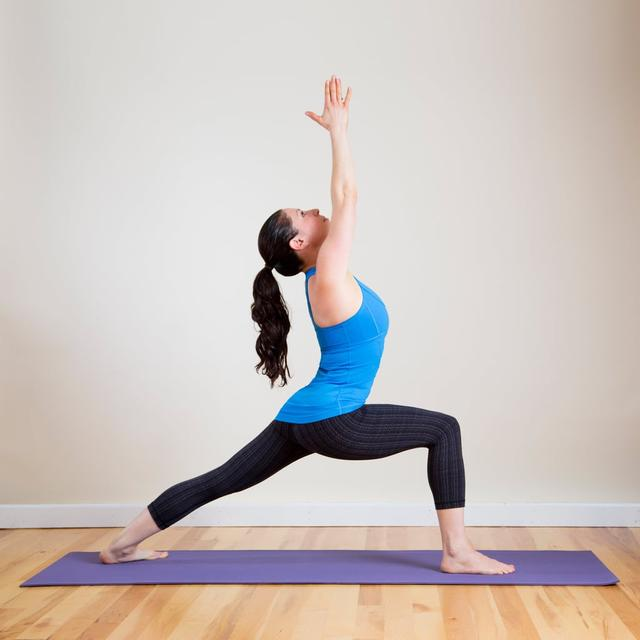Warrior_I: (89, 63, 532, 585)
